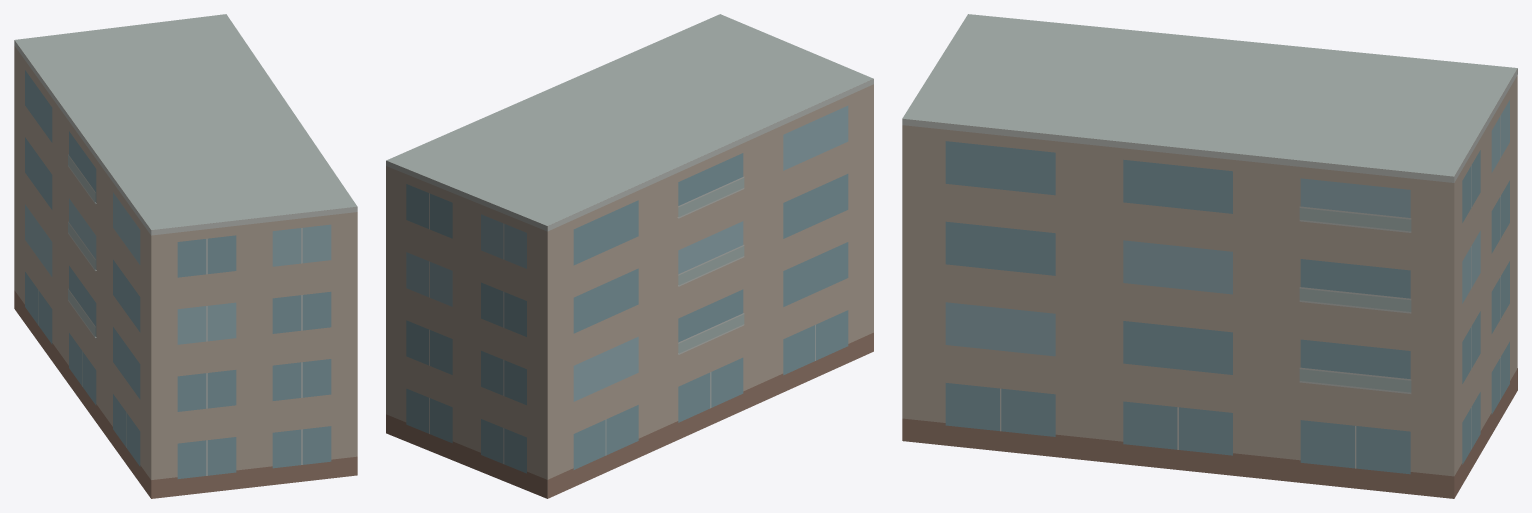
The model's file is survey-upis-32879277.glb.
The picture shows the model from 3 angles, left to right: view 1: azimuth 30°, elevation 25°; view 2: azimuth 150°, elevation 25°; view 3: azimuth 270°, elevation 25°; orthographic projection. The views are drawn at different scales.
Visible parts, largest first — view 1: survey-upis-32879277.tmp; view 2: survey-upis-32879277.tmp; view 3: survey-upis-32879277.tmp.
Boxes of the visible parts, left/top/right/bottom form: survey-upis-32879277.tmp: left=14, top=14, right=357, bottom=498; survey-upis-32879277.tmp: left=386, top=14, right=873, bottom=498; survey-upis-32879277.tmp: left=902, top=14, right=1517, bottom=498.
Size of the model in its own units: 13.21 by 12.2 by 21.13.
